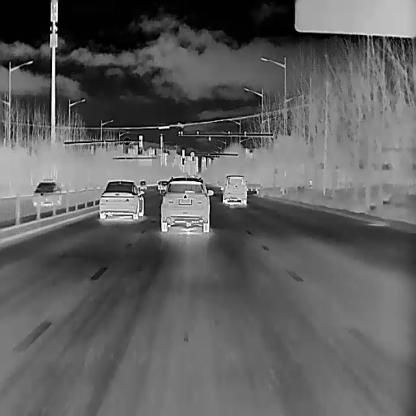car: (158, 174, 212, 230), (98, 180, 143, 218), (32, 177, 61, 206), (220, 174, 246, 206), (156, 180, 168, 190), (139, 180, 147, 190)
